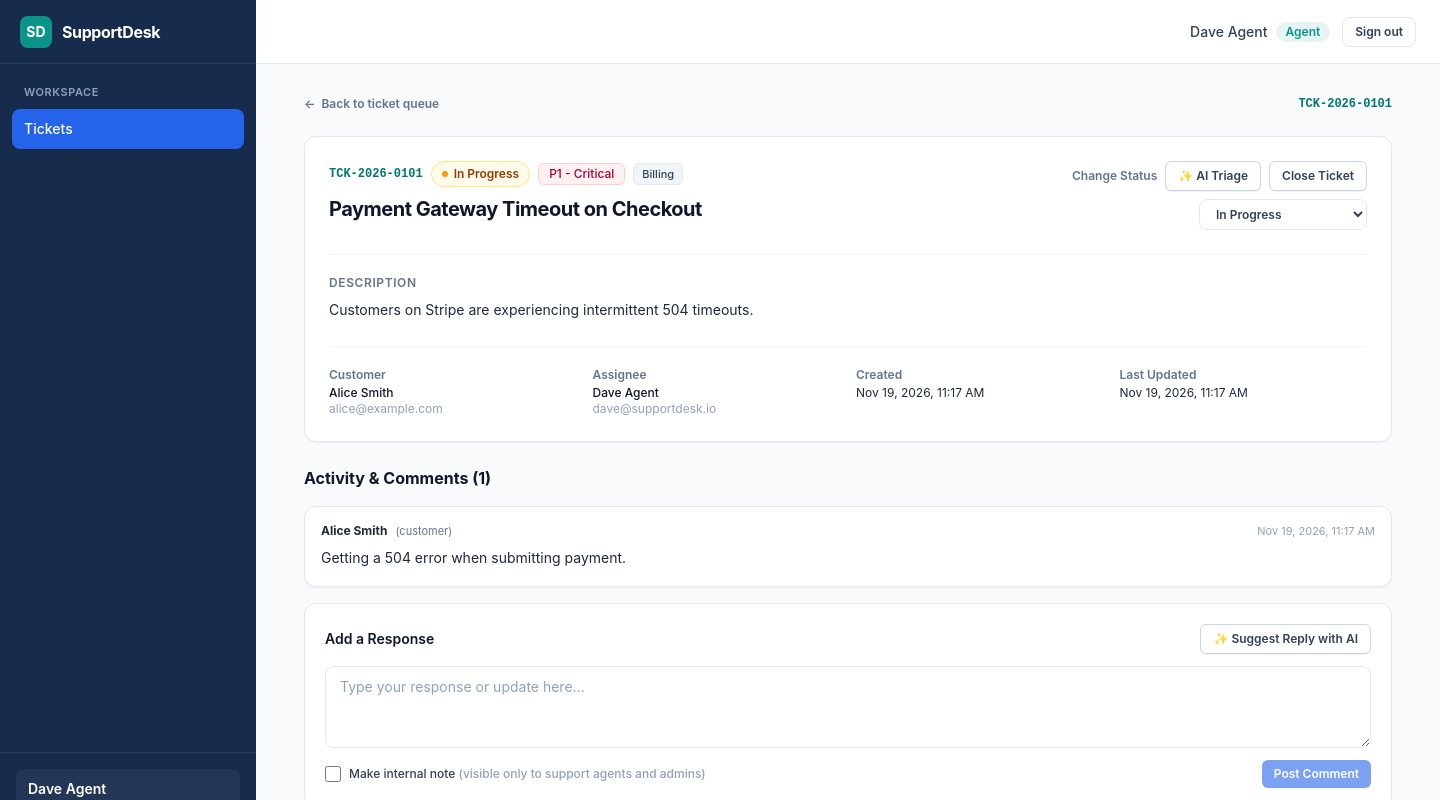
Test: AI Features Frontend UI › Feature 1: Suggest Reply (Streaming Draft) › displays error banner when AI stream fails without sending any reply
Expected: the heading "Payment Gateway Timeout on Checkout" is shown, [329,195,702,223]
What coordinates should you click on to do the following:
click the button "✨ Suggest Reply with AI"
I would click on:
 (1286, 639)
Its box is [1200,624,1371,654].
(page scrolled)
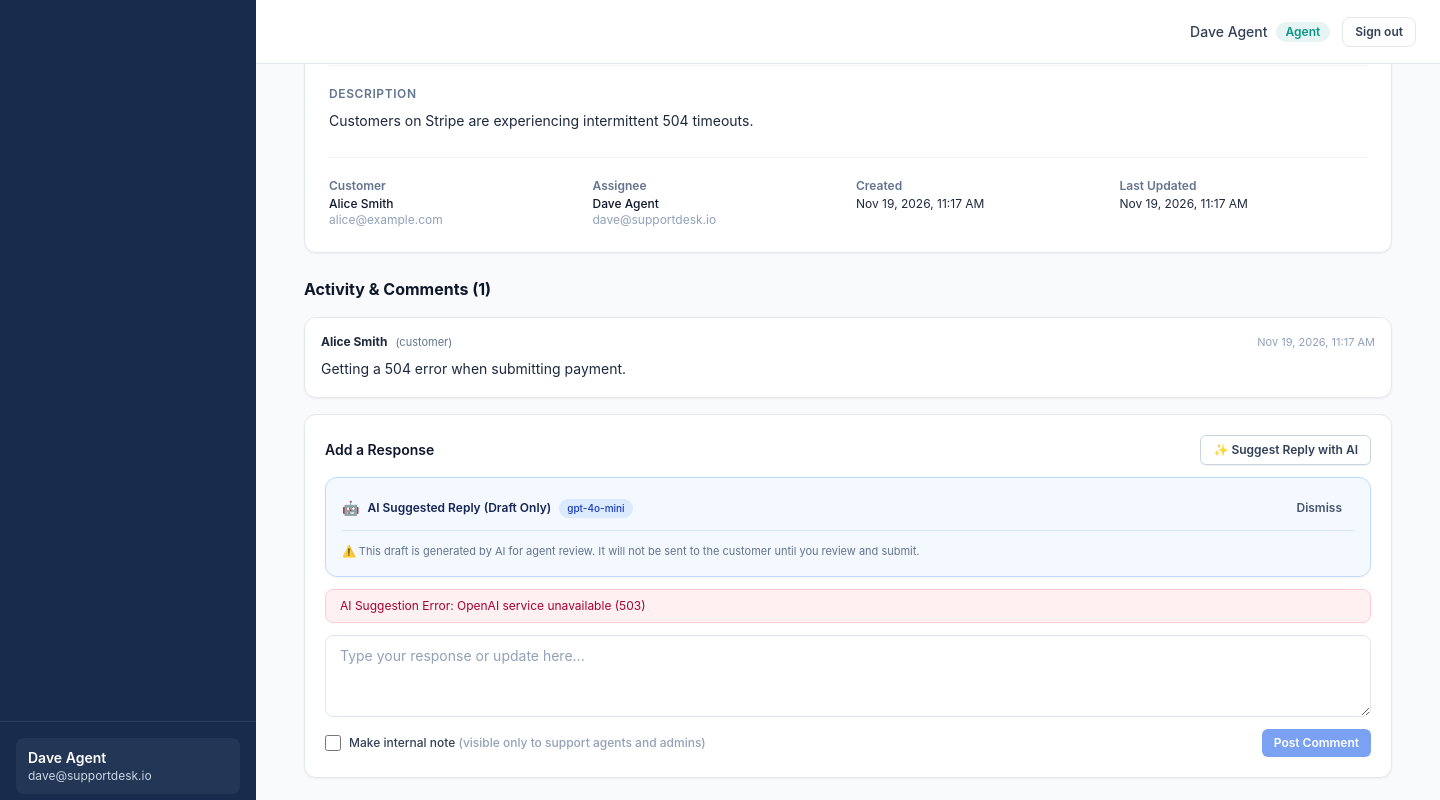
Expected: the text box named "comment response text" is empty, [325,634,1371,716]
Result: the text "AI Suggestion Error: OpenAI service unavailable (503)" is shown at [325,588,1371,622]
